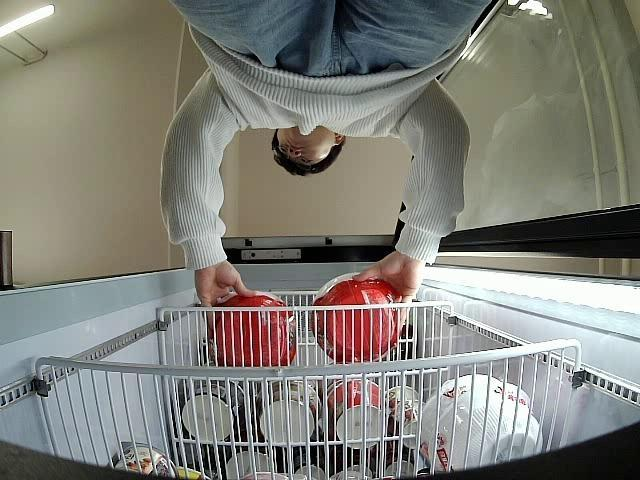10_wangTtukkeong: (312, 274, 395, 362), (212, 293, 296, 366)
